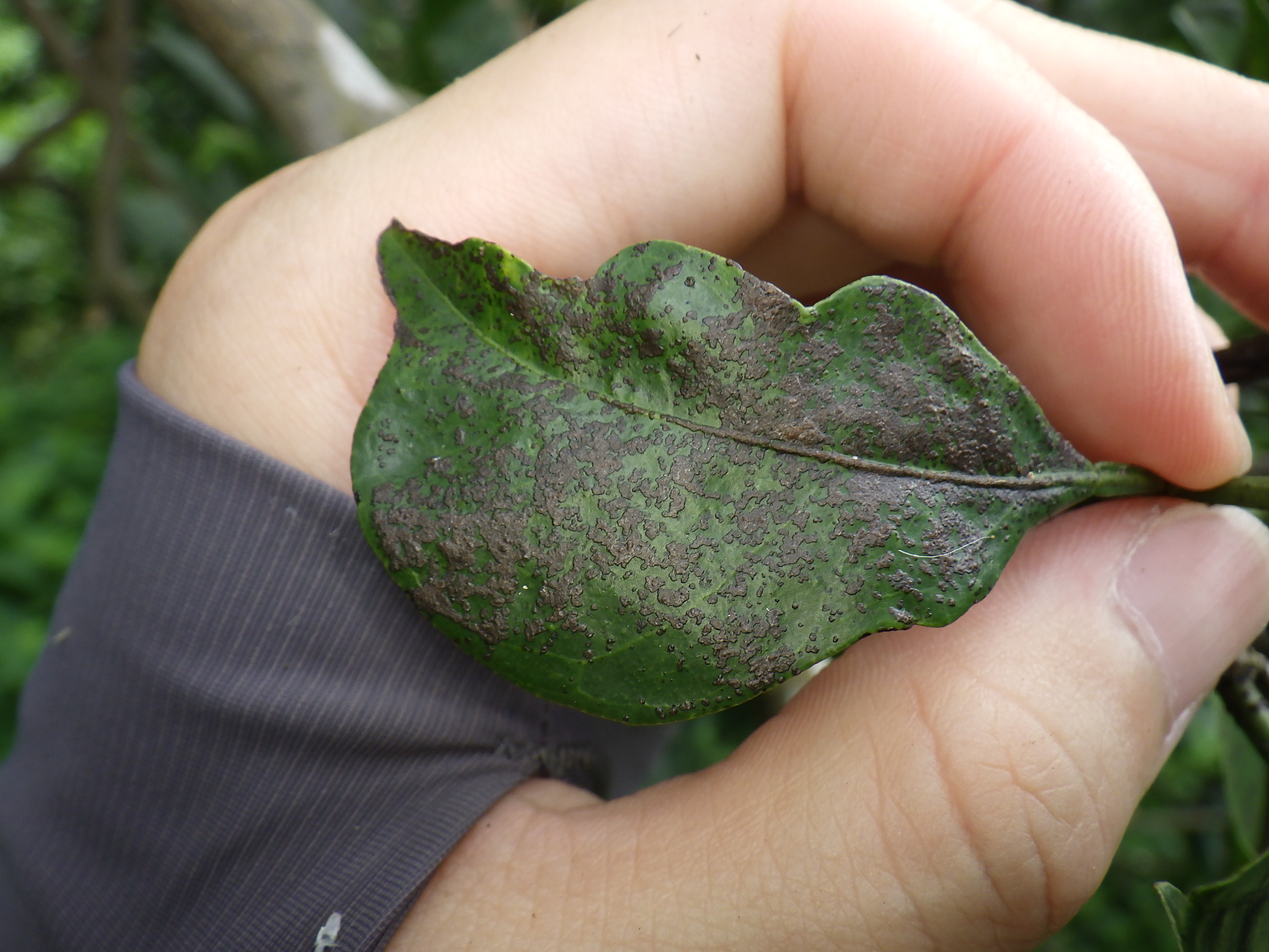Black_Spot: (351, 226, 1156, 724)
